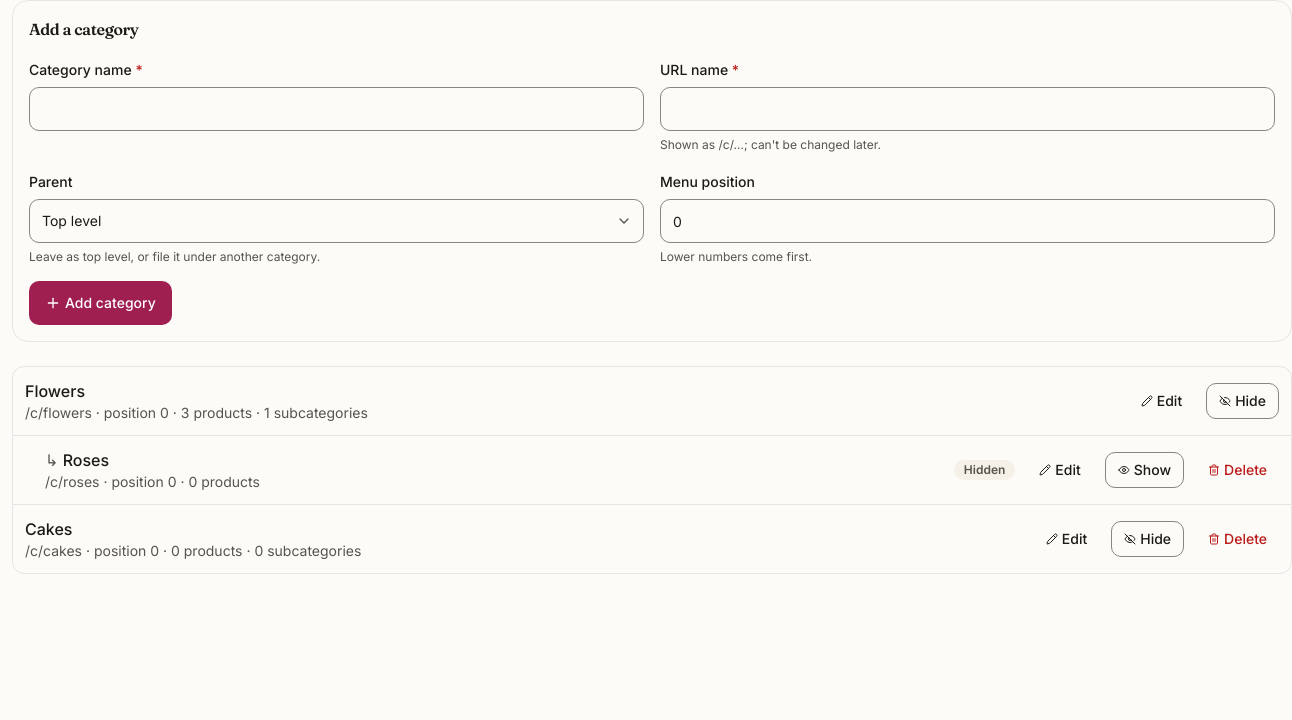
Test case: CategoryManager › adds a subcategory under a top-level parent
Expected: the button named "Edit Flowers" is shown, left=1129, top=383, right=1194, bottom=419
In the field labelled "Category name *": (336,109) left=29, top=87, right=644, bottom=131, type "Tulips"
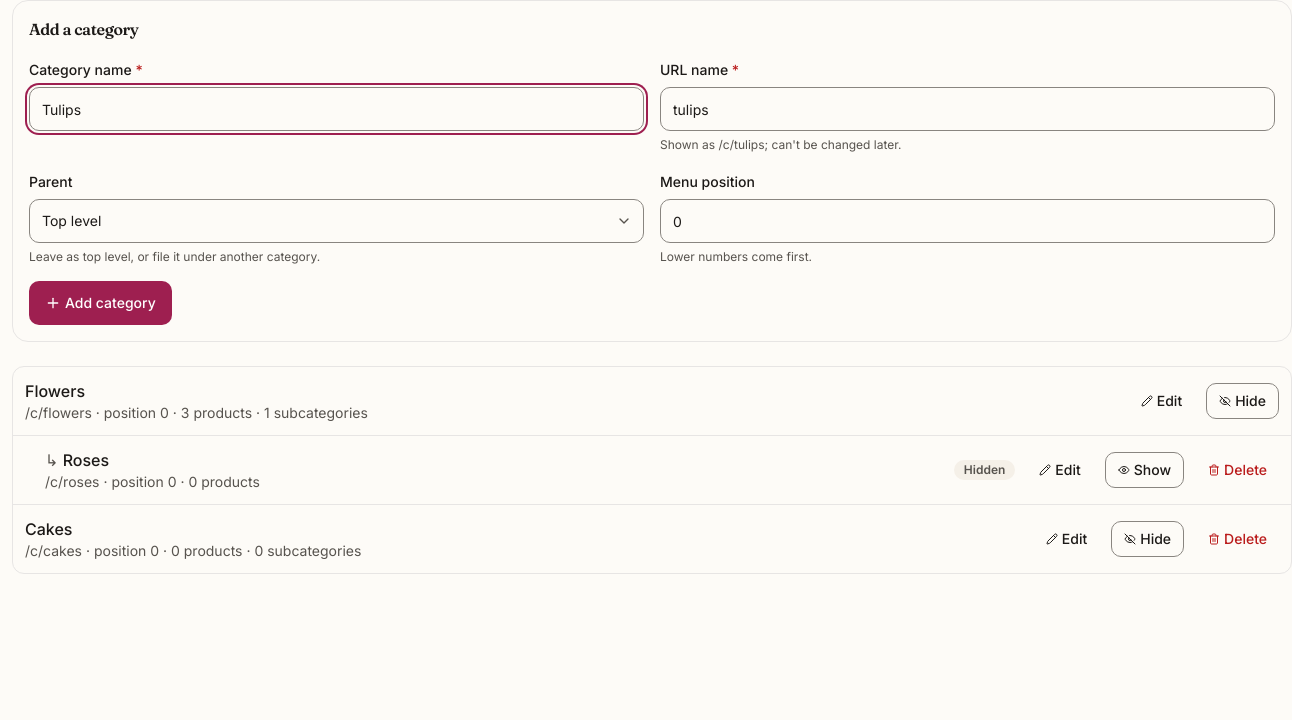
Select "Flowers" in the dropdown labelled "Parent": (336,221) left=29, top=199, right=644, bottom=243
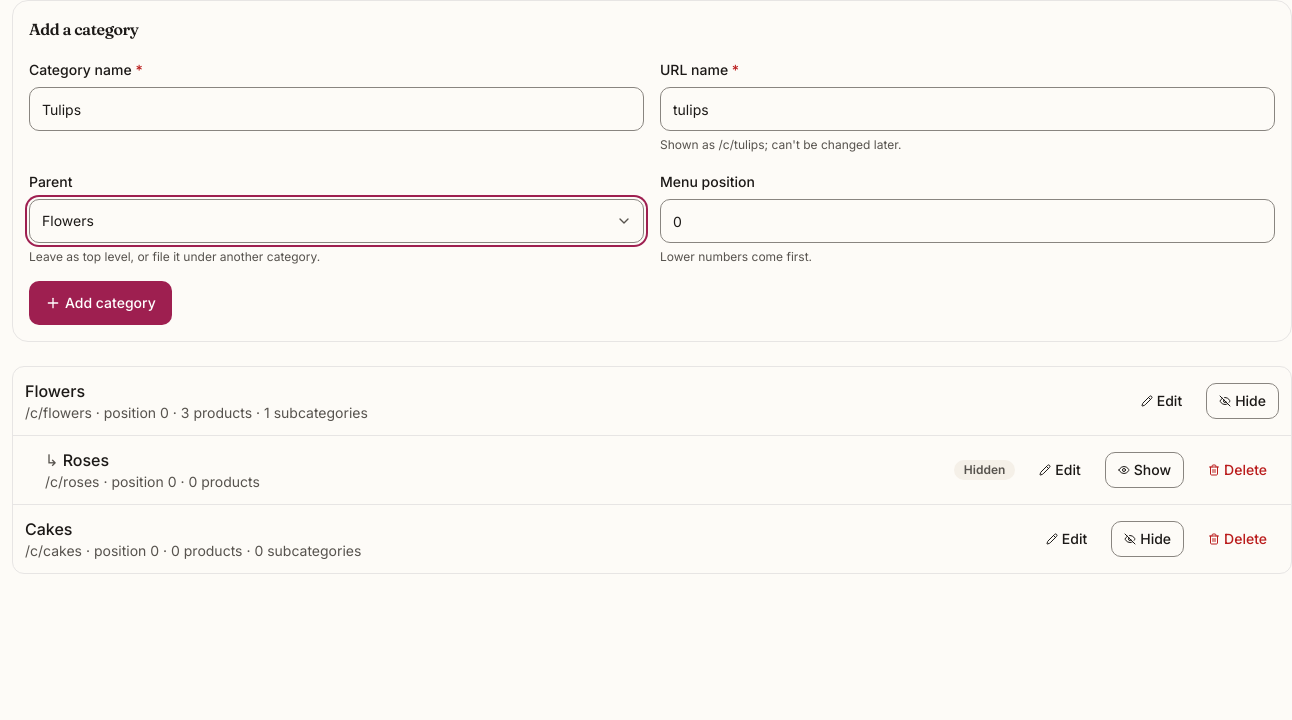
Click the button "Add category": (100,303) left=29, top=281, right=172, bottom=325
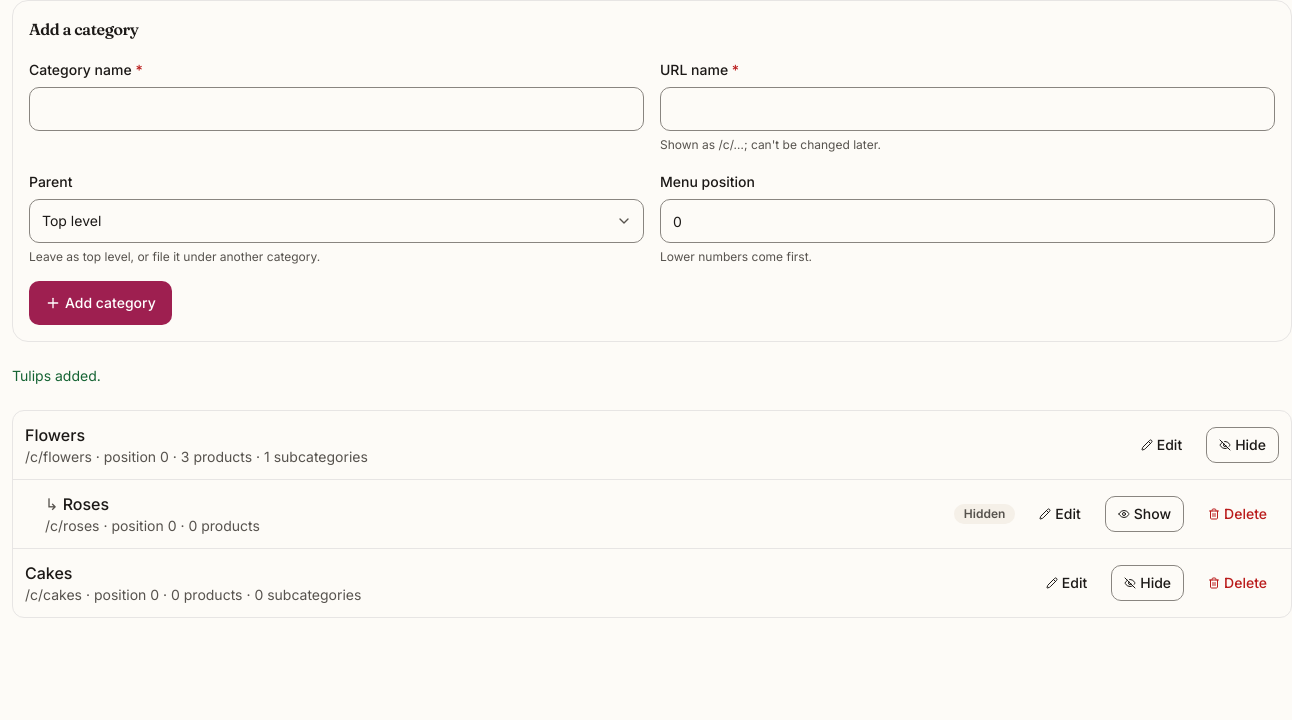
Expected: the text "Tulips added." is shown, left=12, top=367, right=101, bottom=384
